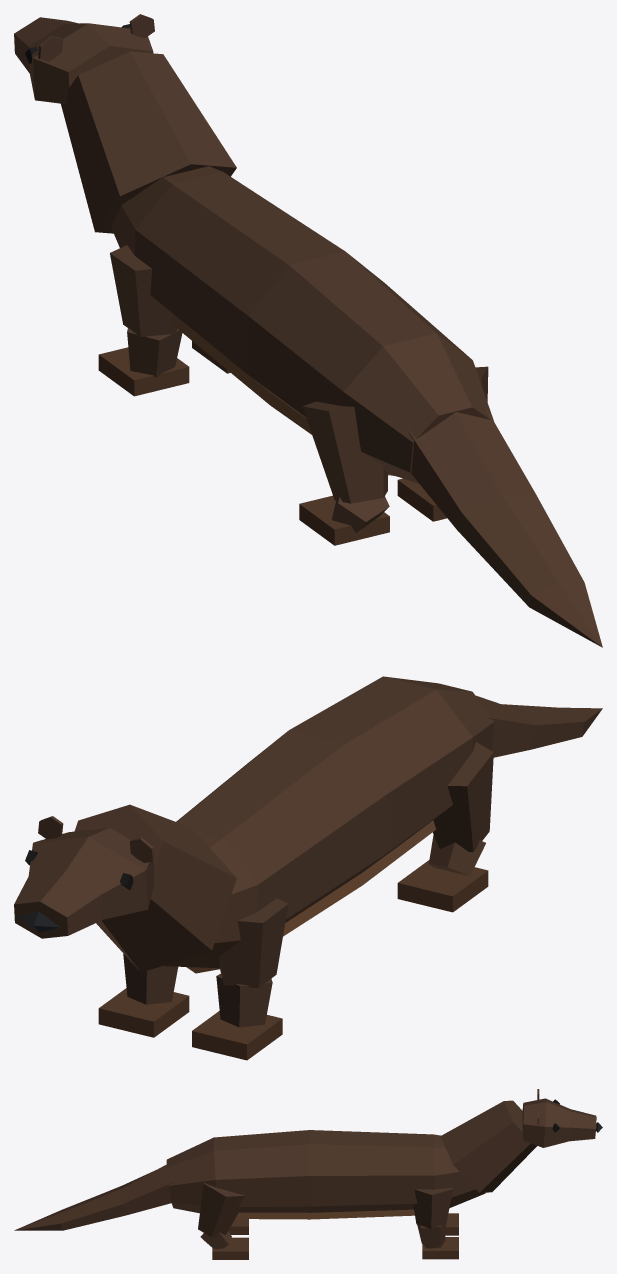
File: ariranha.glb
3 views of the same model, one above another, from view 1: azimuth 30°, elevation 25°; view 2: azimuth 150°, elevation 25°; view 3: azimuth 270°, elevation 25° (orthographic). The views are drawn at different scales.
Parts seen in each view (by area): view 1: corpo; view 2: corpo; view 3: corpo.
Part boxes in pixels (<box>): corpo: <box>14,14,602,647</box>; corpo: <box>14,676,602,1060</box>; corpo: <box>14,1089,602,1259</box>.
Bounding box in the file's own units: 0.1753 × 0.2626 × 1.
